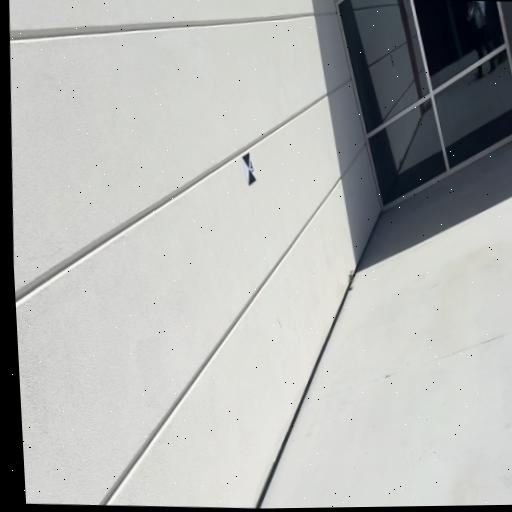target4: (242, 151, 256, 186)
